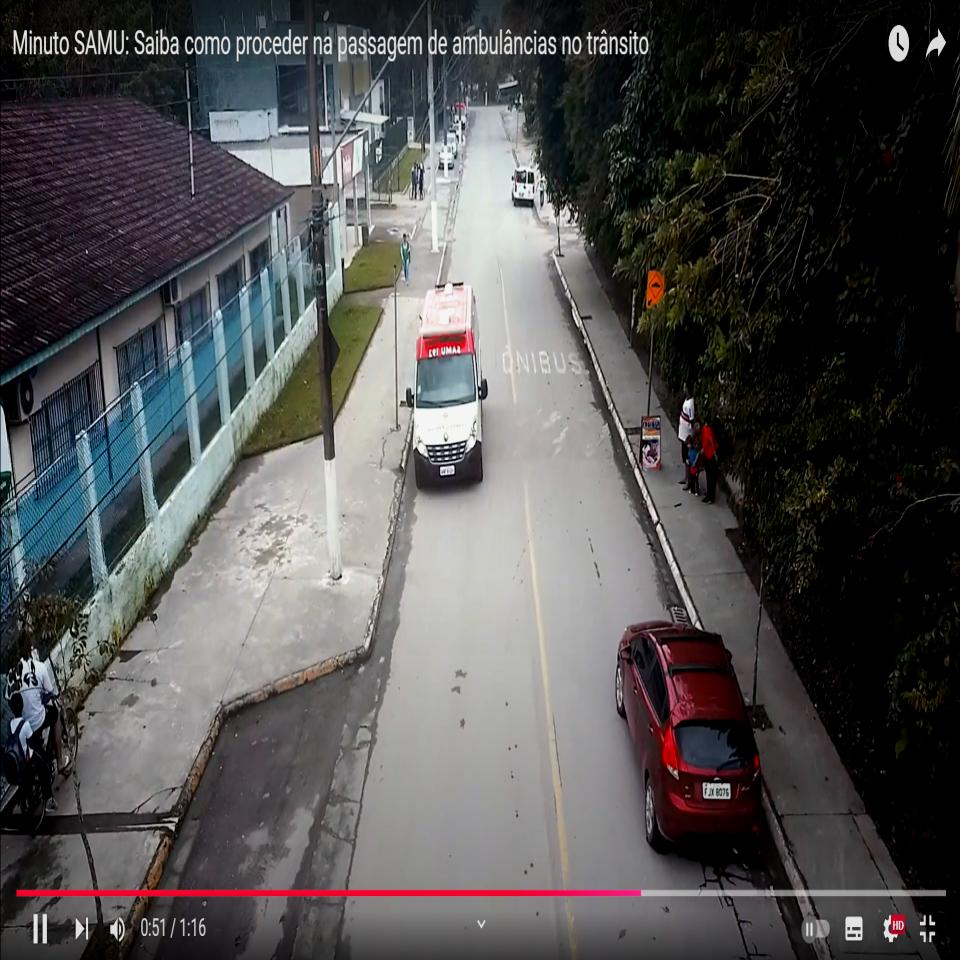ambulancia: (406, 277, 491, 488)
